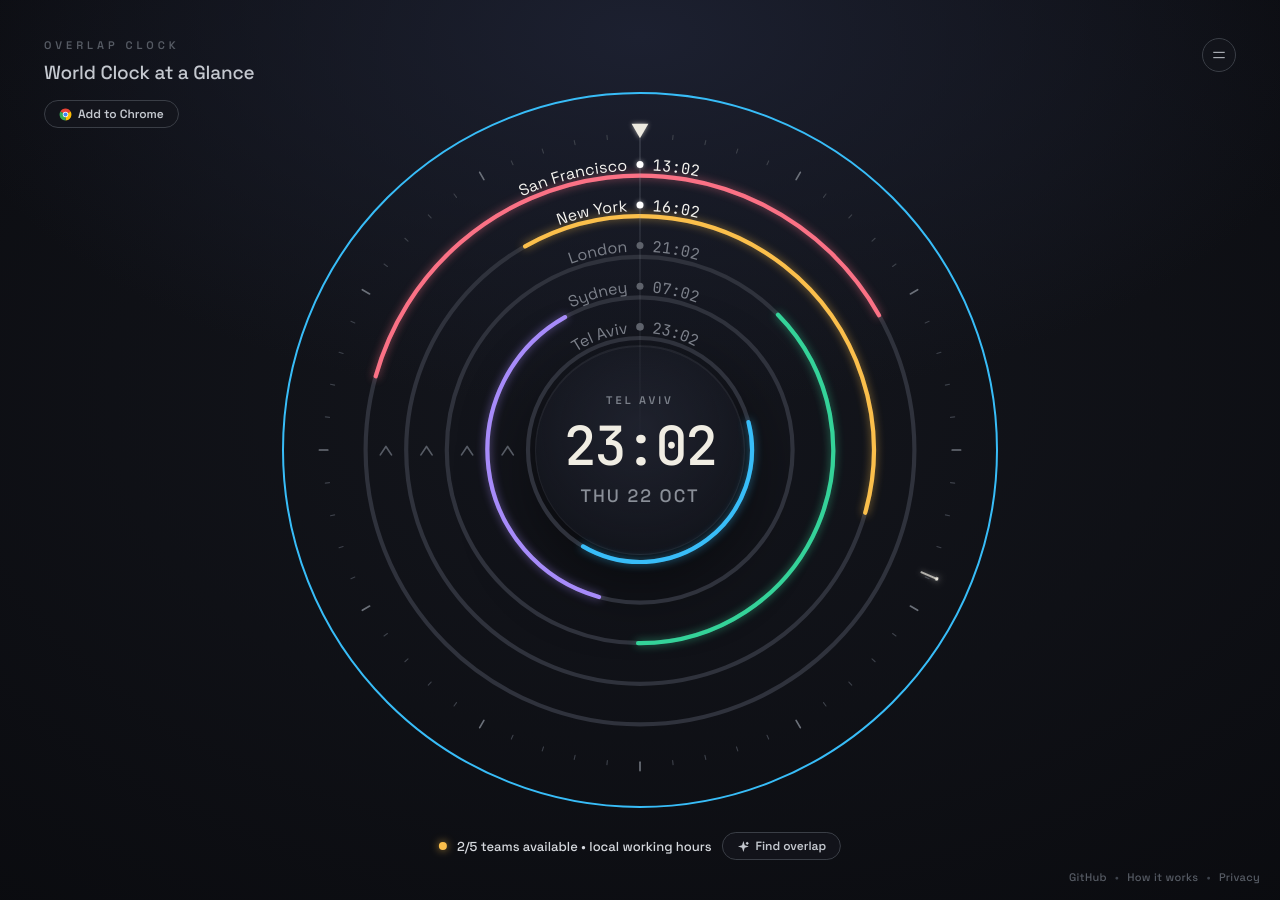
Test: App — scrubbing swaps ControlCluster to Cancel/Schedule, on any platform › Cancel resets the scrub and restores the normal Config/Share menu
The image size is (1280, 900).
Press Arrowup
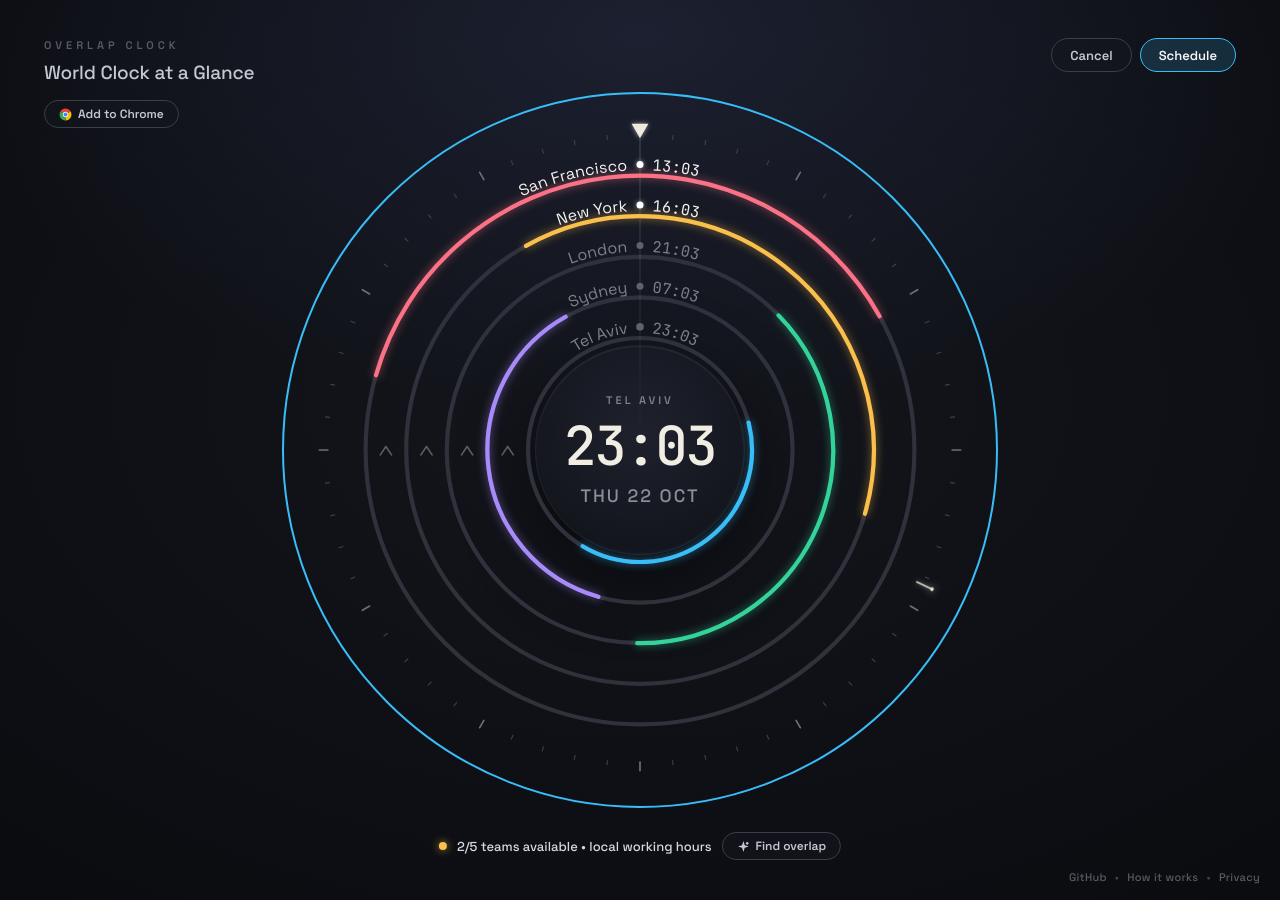
Expected: the slider does not have attribute aria-valuenow="0", 290,100 -> 990,800
Click the button with test id "control-scrub-cancel-button": (1091, 55) 1051,38 -> 1132,72
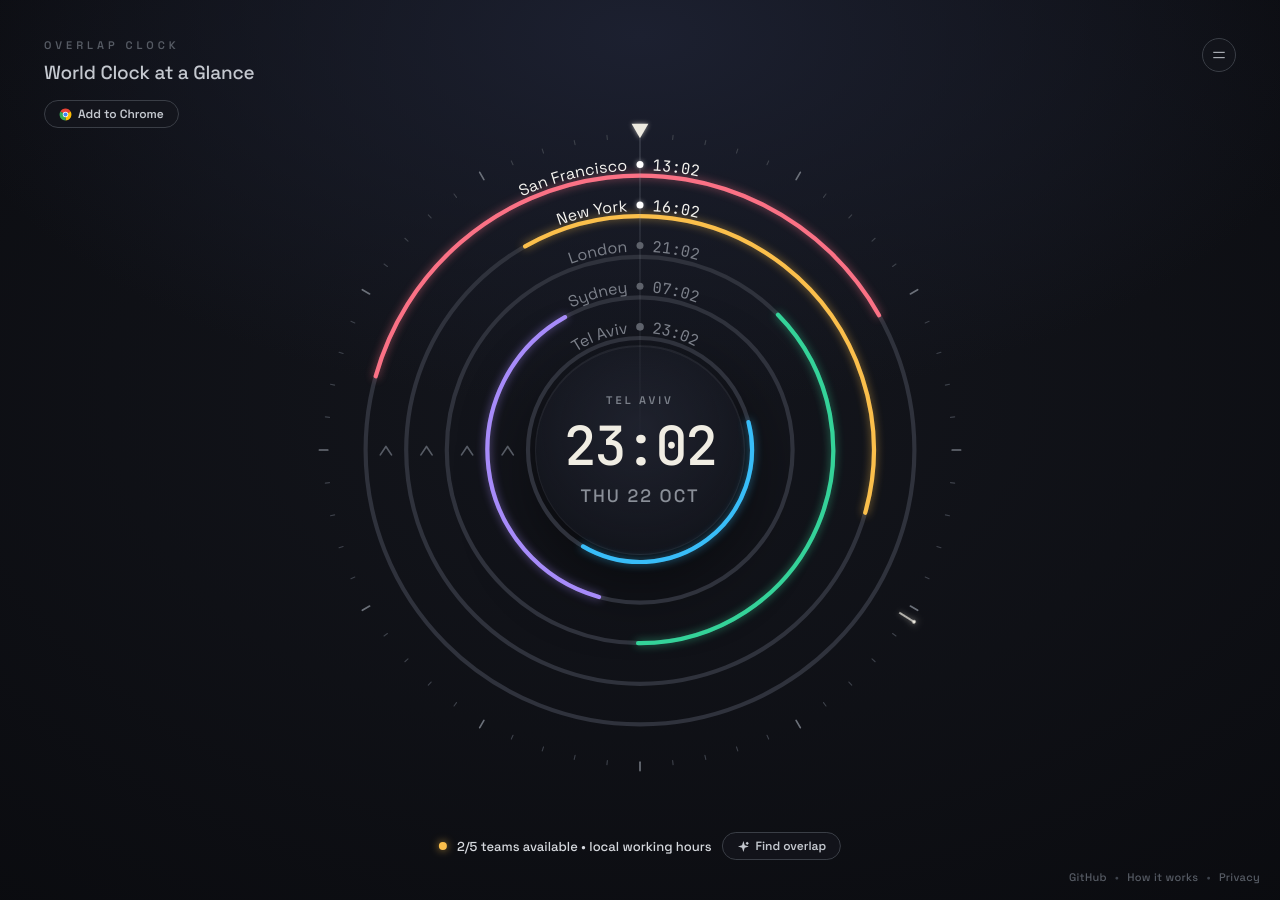
Expected: the button with test id "control-menu-toggle" is shown, 1202,38 -> 1236,72
